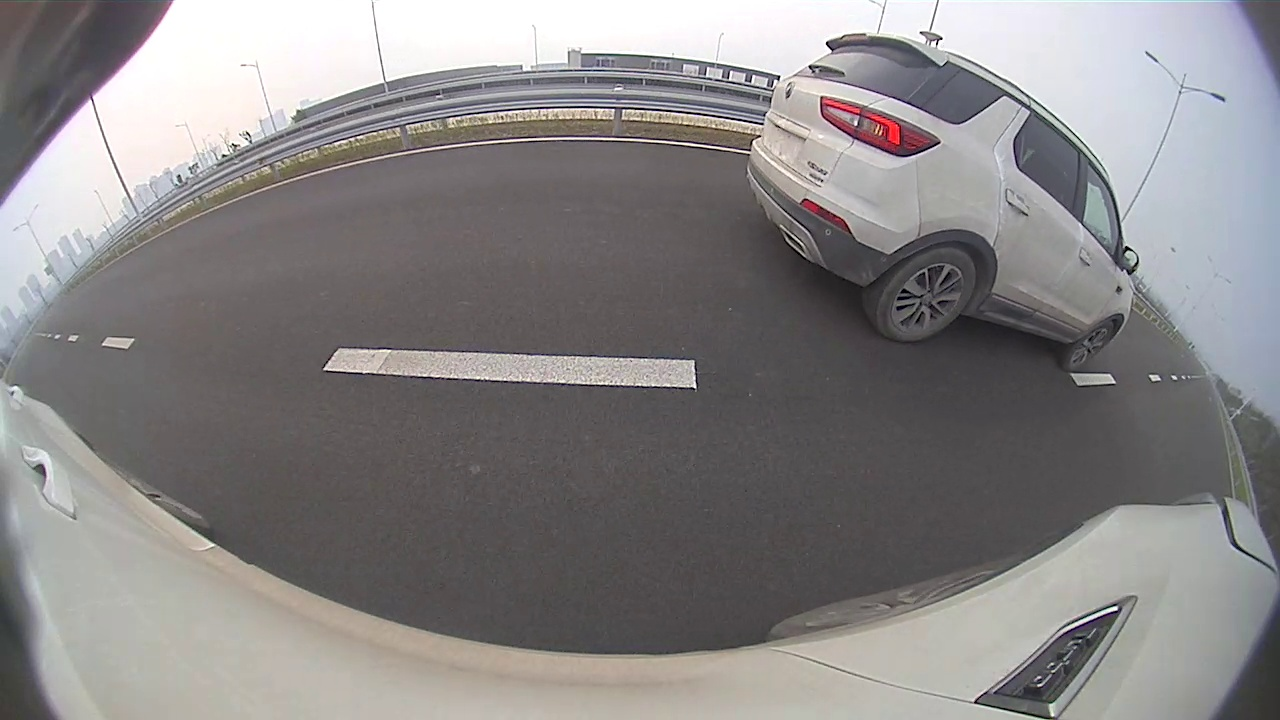car: (747, 34, 1139, 372)
front: (1063, 320, 1118, 373)
rear: (874, 246, 977, 343)
